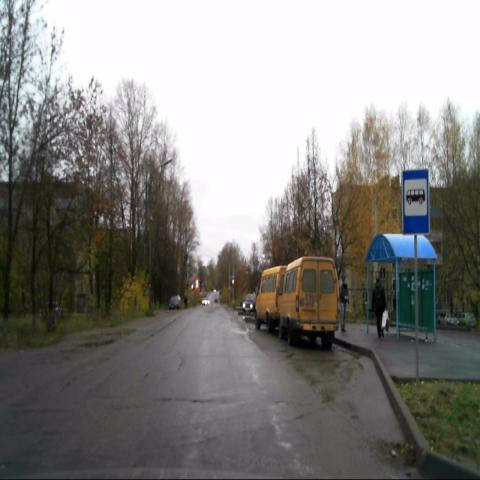5_16: (401, 168, 430, 234)
